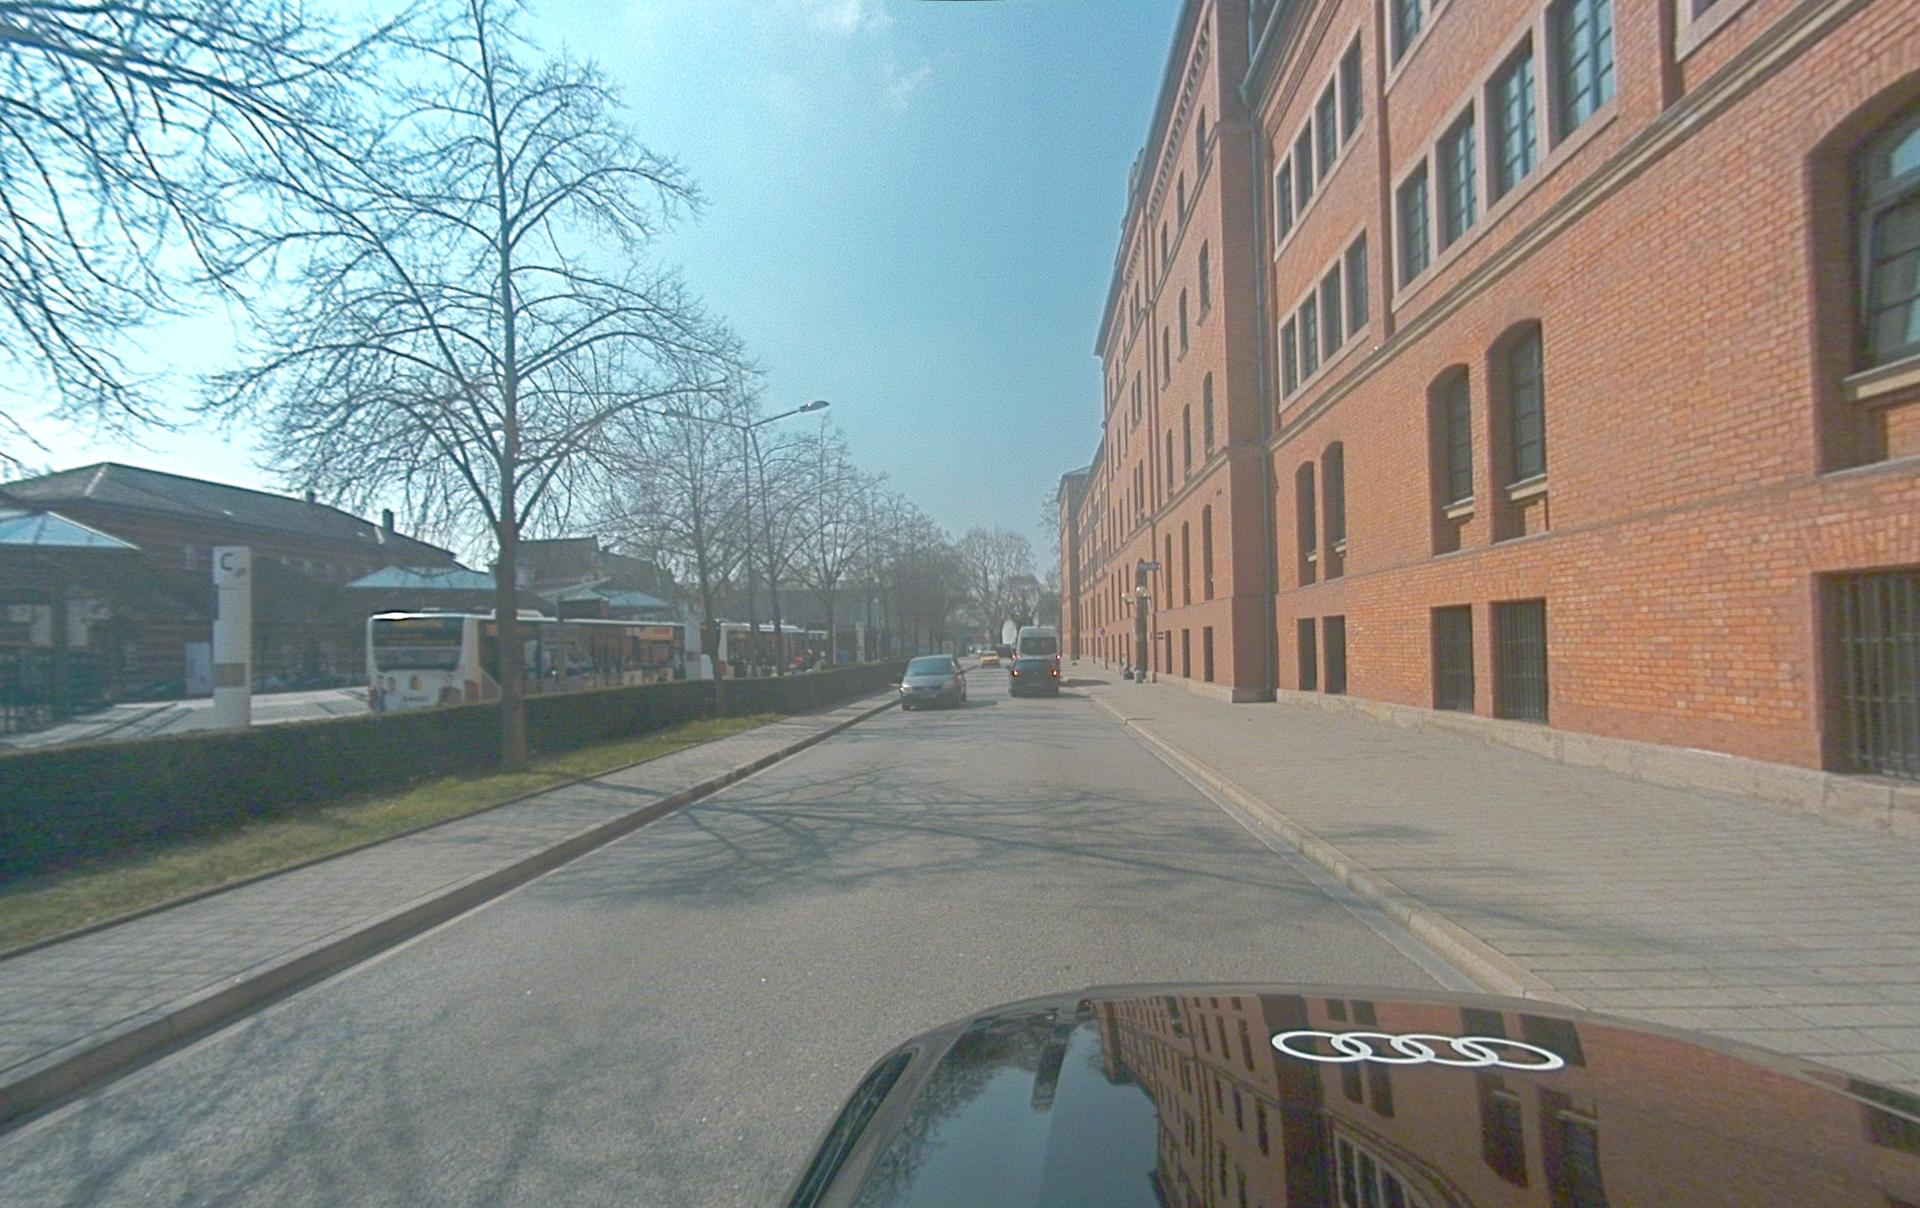car: (899, 654, 967, 710)
